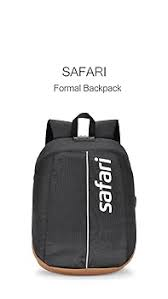backpack: (31, 112, 137, 275)
